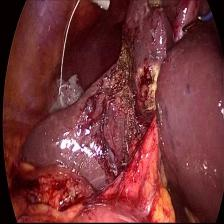Bipolar: (178, 7, 212, 44)
Irrigator: (88, 0, 111, 12)
Specimen Bag: (48, 65, 86, 121)
